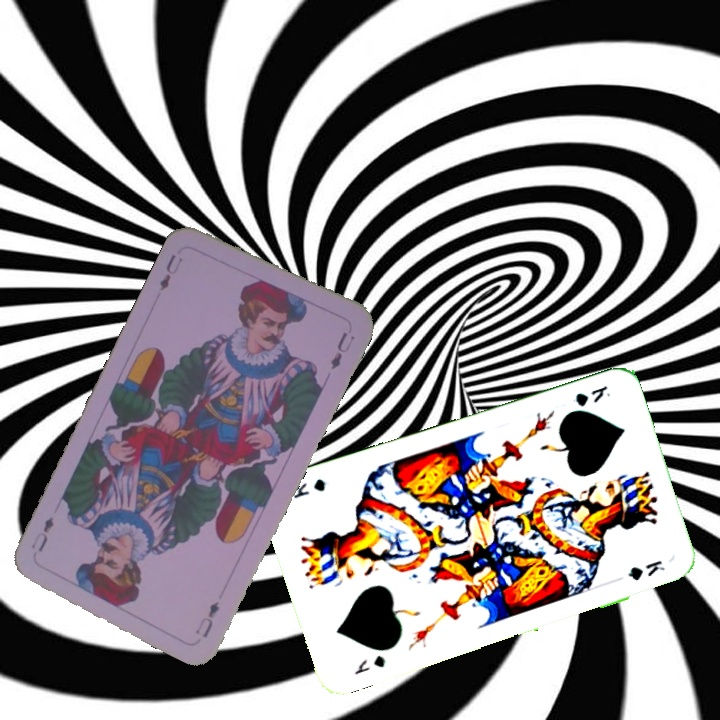EU: (193, 597, 223, 641), (155, 250, 184, 294)
GK: (568, 381, 613, 410), (350, 651, 388, 678)
